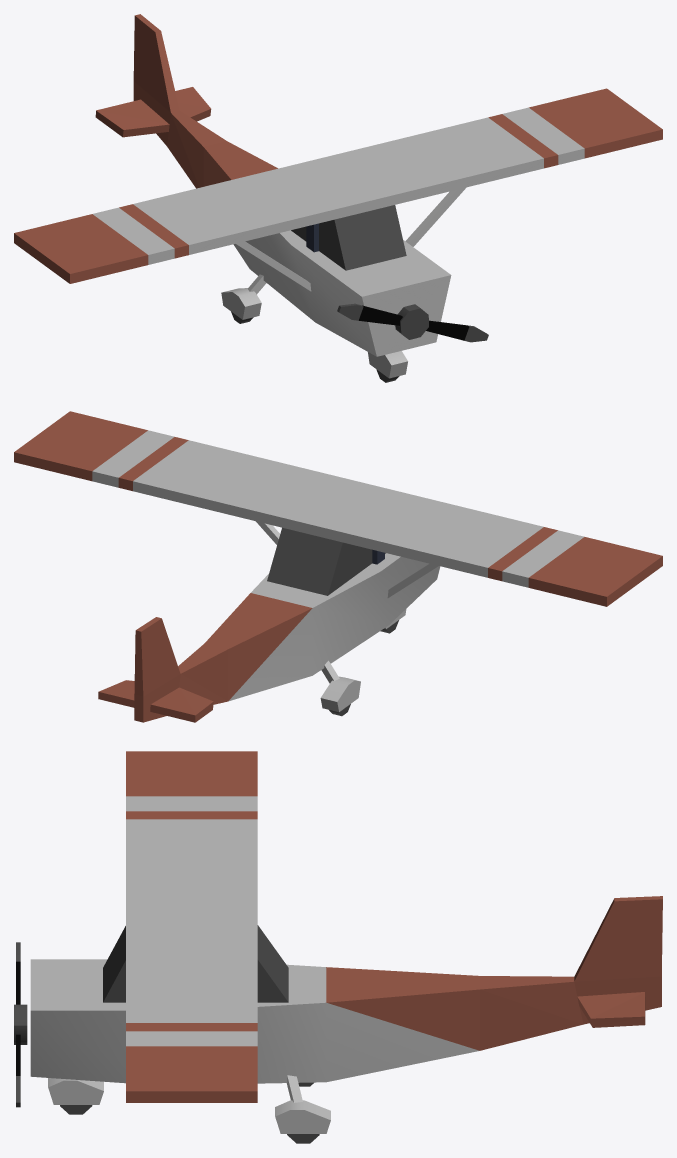
Rendered from plane_def.FBX.
3 views of the same model, one above another, from view 1: azimuth 30°, elevation 25°; view 2: azimuth 150°, elevation 25°; view 3: azimuth 270°, elevation 25° (orthographic). The views are drawn at different scales.
Visible parts, largest first — view 1: Box327, Object001, Object002, Box333; view 2: Box327, Object001, Object002; view 3: Box327, Object001, Object002, Box333.
Boxes of the visible parts, <box> form: Box327: <box>93,107,584,378</box>; Object001: <box>14,14,662,283</box>; Object002: <box>291,205,406,270</box>; Box333: <box>337,303,488,342</box>; Box327: <box>92,430,584,711</box>; Object001: <box>14,411,662,722</box>; Object002: <box>267,527,385,595</box>; Box327: <box>30,796,479,1133</box>; Object001: <box>126,751,662,1102</box>; Object002: <box>103,925,288,1002</box>; Box333: <box>14,942,27,1107</box>.
Bounding box in the file's own units: 2577 × 757 × 2079.
